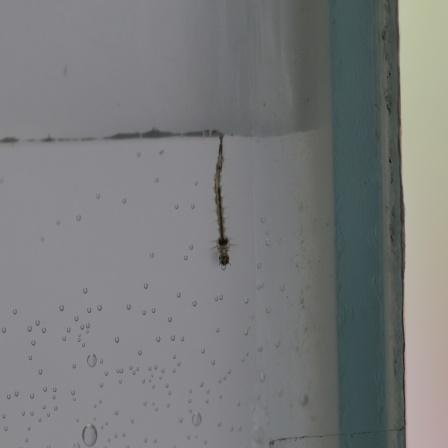Jentik-Nyamuk: (207, 132, 237, 269)
